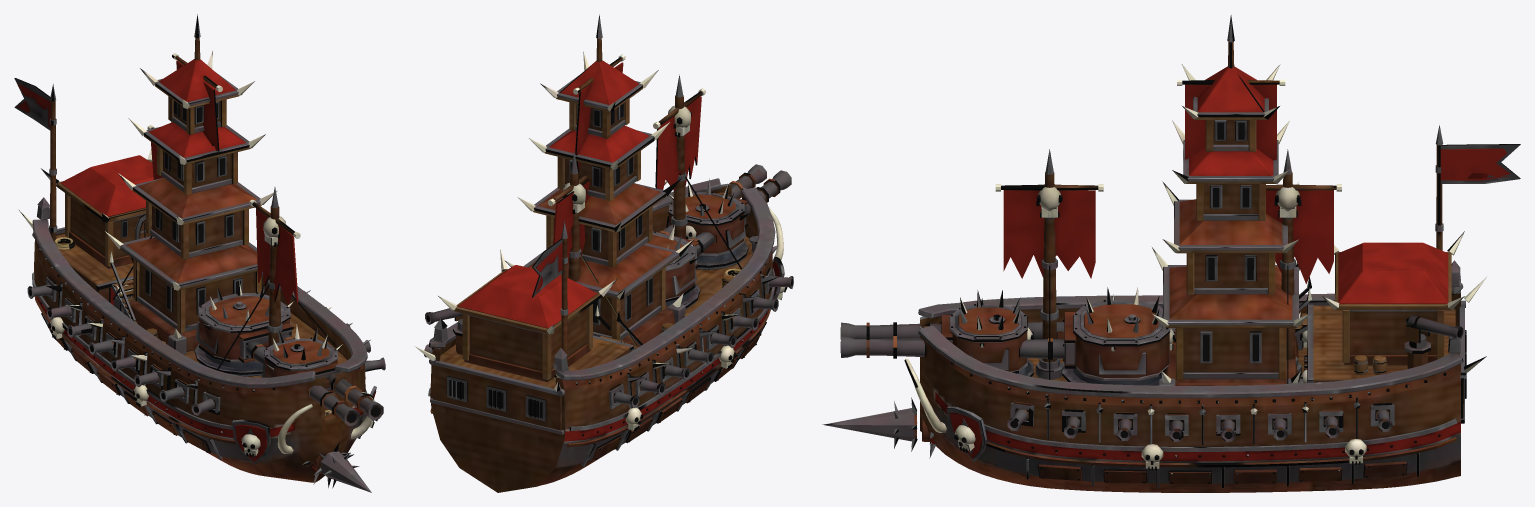
Rendered from orc_dreadnought.glb.
3 renders of one model, left to right at view 1: azimuth 30°, elevation 25°; view 2: azimuth 150°, elevation 25°; view 3: azimuth 270°, elevation 25°, orthographic. The views are drawn at different scales.
Parts seen in each view (by area): view 1: Hull, Turret2, Turret1, Sail1, Cannon1, Flag, Sail2, Cannon2; view 2: Hull, Turret1, Sail1, Turret2, Cannon1, Sail3, Flag, Sail2, Cannon3, Cannon2; view 3: Hull, Turret2, Sail1, Turret1, Sail3, Flag, Cannon1, Sail2, Cannon2, Cannon3.
Boxes of the visible parts, box(x1,y1,x2,y2) form: Hull: box(19, 14, 385, 492); Turret2: box(194, 281, 293, 376); Turret1: box(261, 324, 342, 393); Sail1: box(256, 208, 298, 304); Cannon1: box(308, 373, 383, 426); Flag: box(14, 78, 50, 130); Sail2: box(176, 60, 219, 151); Cannon2: box(246, 333, 294, 364); Hull: box(415, 14, 793, 492); Turret1: box(666, 178, 749, 269); Sail1: box(655, 96, 701, 201); Turret2: box(646, 225, 700, 309); Cannon1: box(716, 164, 791, 216); Sail3: box(553, 180, 589, 265); Flag: box(532, 238, 562, 297); Sail2: box(575, 62, 623, 171); Cannon3: box(425, 308, 462, 331); Cannon2: box(659, 224, 716, 256); Hull: box(822, 15, 1486, 492); Turret2: box(1062, 287, 1175, 385); Sail1: box(1003, 190, 1095, 278); Turret1: box(939, 290, 1033, 376); Sail3: box(1266, 190, 1333, 283); Flag: box(1440, 144, 1520, 183); Cannon1: box(840, 322, 941, 358); Sail2: box(1185, 84, 1276, 160); Cannon2: box(1019, 322, 1064, 359); Cannon3: box(1405, 315, 1463, 348).
Size of the model in its own units: 5.35 by 9.51 by 12.9.
Materials: 2 (2 with a texture image).
